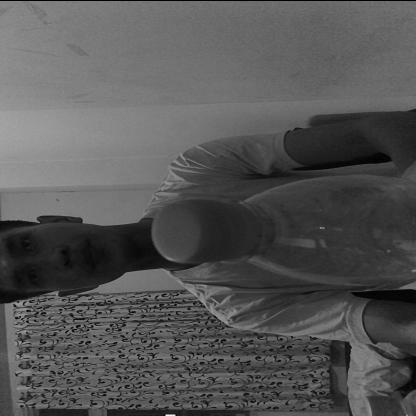plastic_bottles: (150, 175, 416, 290)
